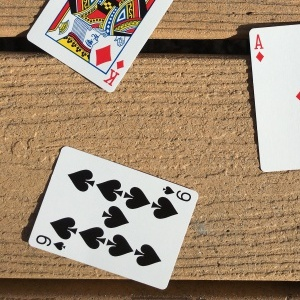card: (28, 146, 199, 289)
